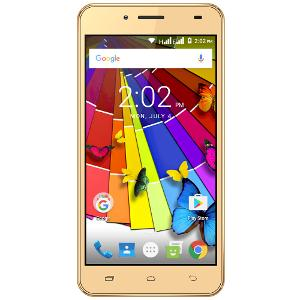mobile: (65, 3, 246, 296)
